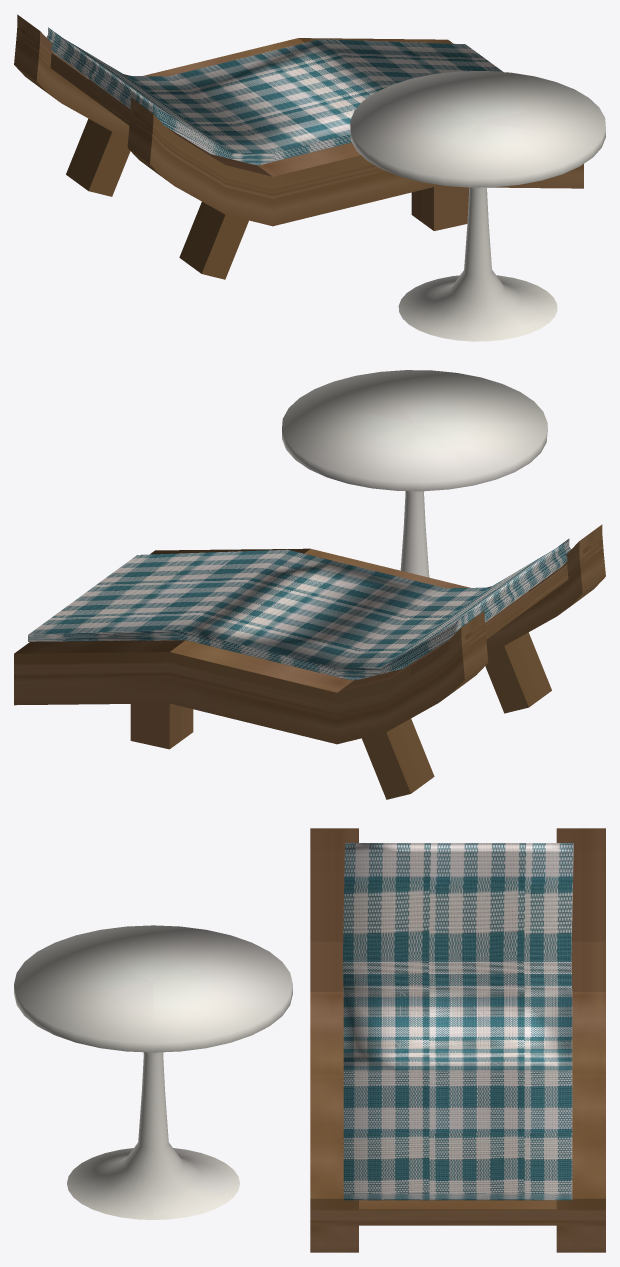
Rendered from deckchair.glb.
3 renders of one model, top to bottom at view 1: azimuth 30°, elevation 25°; view 2: azimuth 150°, elevation 25°; view 3: azimuth 270°, elevation 25°, orthographic. The views are drawn at different scales.
Parts seen in each view (by area): view 1: body; view 2: body; view 3: body.
Part boxes in pixels (box(x1,y1,x2,y2)): body: box(14, 14, 605, 341); body: box(14, 370, 605, 799); body: box(14, 828, 605, 1252).
Bounding box in the file's own units: 1.85 × 0.8239 × 2.
3 materials, 3 textured.
